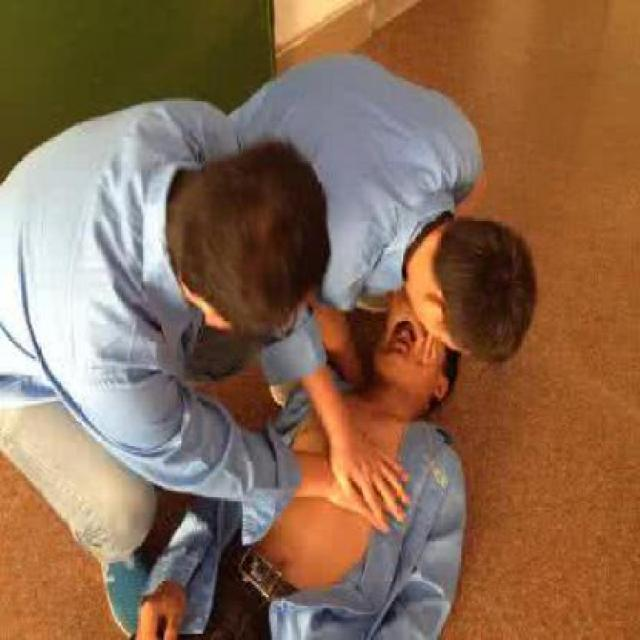fall: (91, 279, 478, 632)
